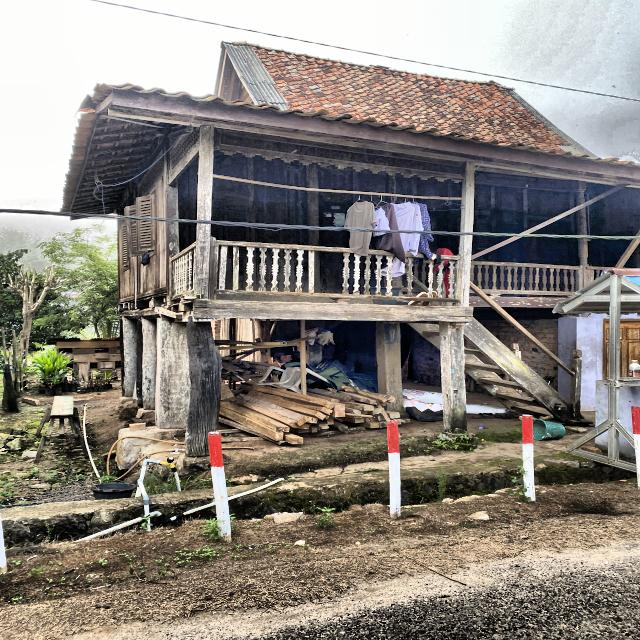column: (187, 322, 219, 456), (156, 318, 190, 430), (441, 322, 467, 434), (378, 321, 404, 414), (122, 317, 137, 397), (143, 318, 156, 410)
roof: (59, 41, 639, 220)
stair: (407, 322, 575, 422)
wall: (118, 127, 639, 311)
window: (124, 195, 155, 257), (122, 224, 130, 267)
